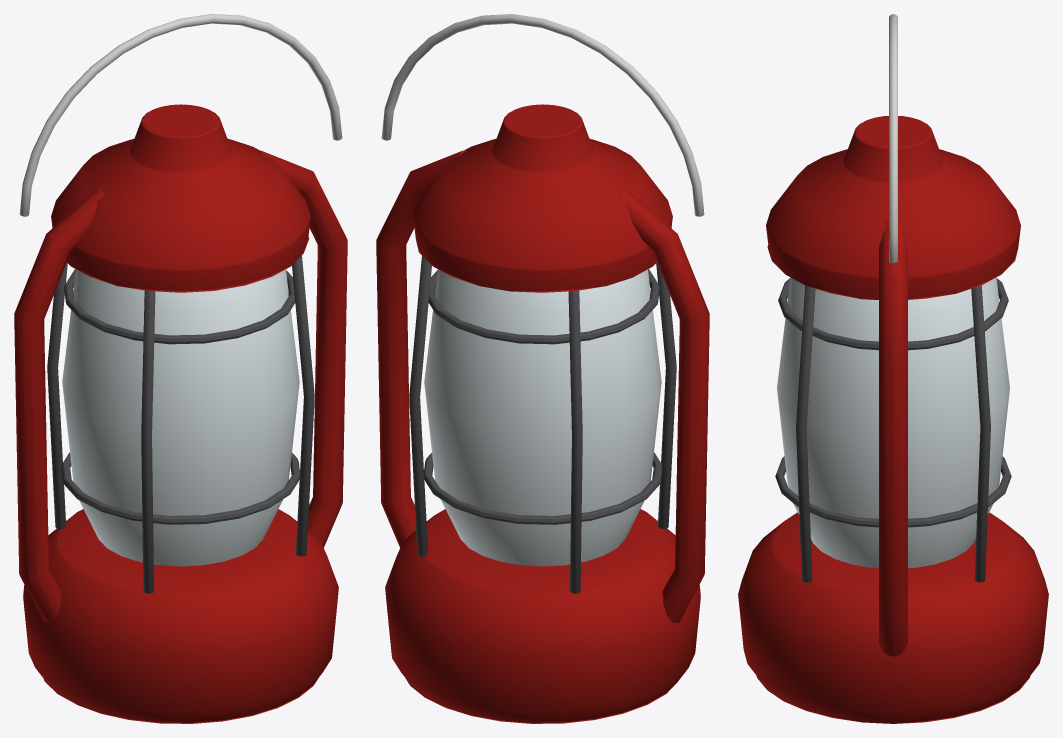
File: lantern.glb
3 views of the same model, side by side, from view 1: azimuth 30°, elevation 25°; view 2: azimuth 150°, elevation 25°; view 3: azimuth 270°, elevation 25° (orthographic).
Parts seen in each view (by area): view 1: lantern; view 2: lantern; view 3: lantern.
Part boxes in pixels (x1=…): lantern: x1=14, y1=14, x2=347, y2=723; lantern: x1=376, y1=14, x2=709, y2=723; lantern: x1=738, y1=14, x2=1048, y2=723.
Size of the model in its own units: 0.1345 by 0.2543 by 0.112.
